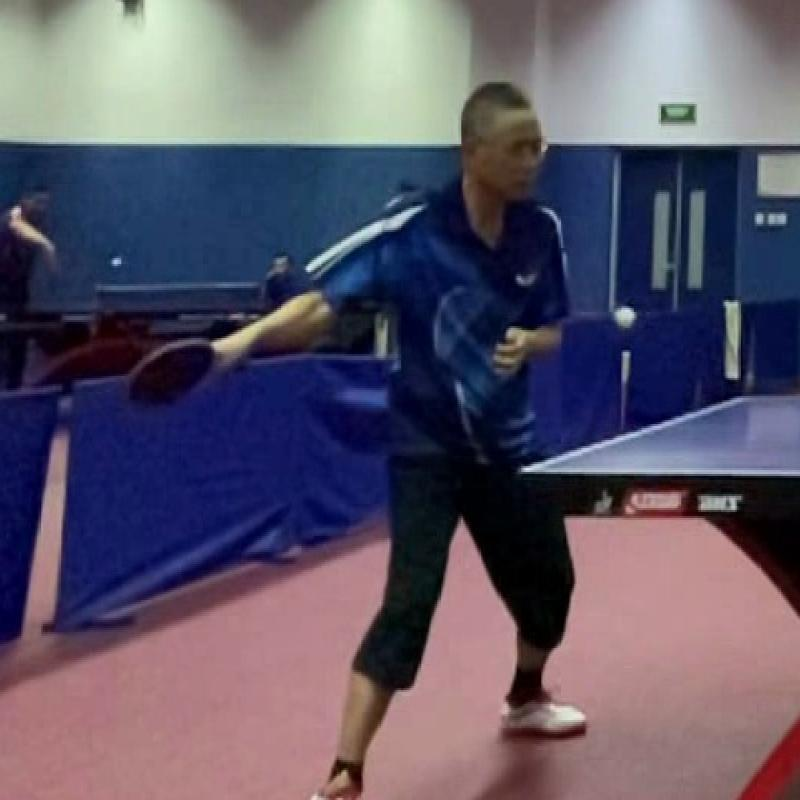bats: (111, 322, 232, 418)
